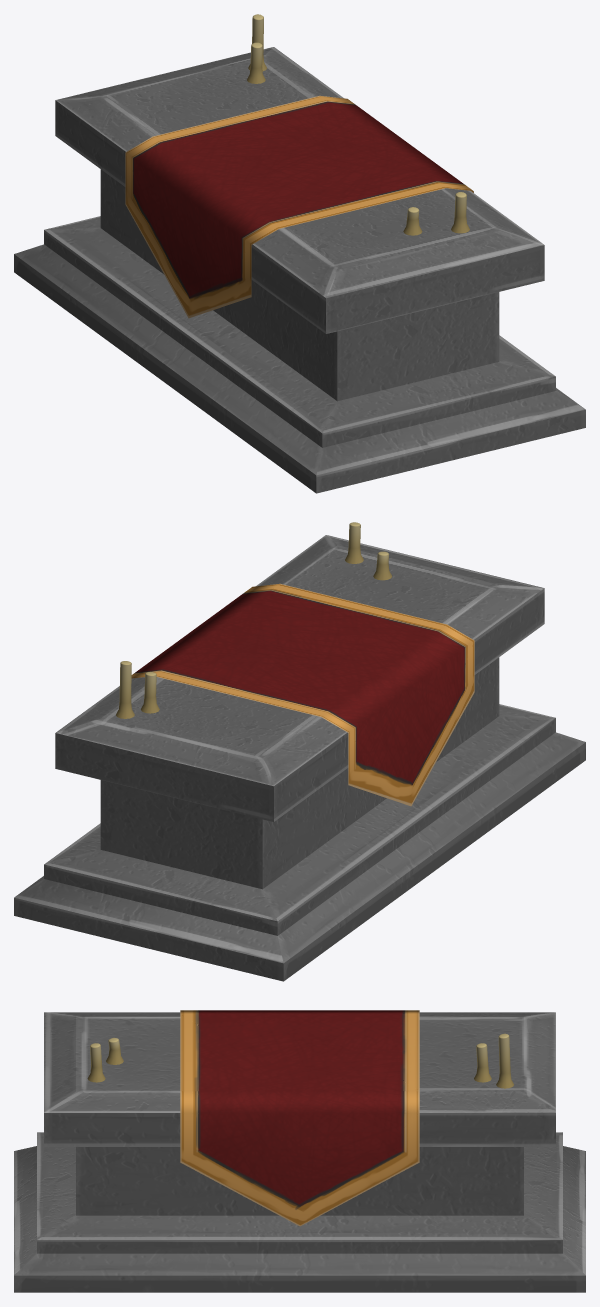
File: BD_Altar.fbx
3 views of the same model, one above another, from view 1: azimuth 30°, elevation 25°; view 2: azimuth 150°, elevation 25°; view 3: azimuth 270°, elevation 25° (orthographic). The views are drawn at different scales.
Visible parts, largest first — view 1: BD_Altar; view 2: BD_Altar; view 3: BD_Altar.
Part boxes in pixels (bbox=[...]): BD_Altar: bbox=[14, 14, 585, 493]; BD_Altar: bbox=[14, 522, 585, 981]; BD_Altar: bbox=[14, 1010, 585, 1292].
Bounding box in the file's own units: 2.51 × 2.12 × 4.88.
